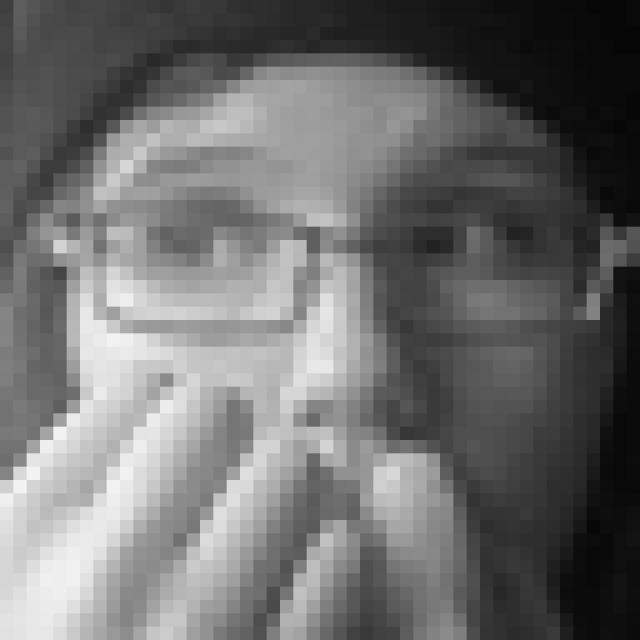fear: (104, 135, 562, 572)
